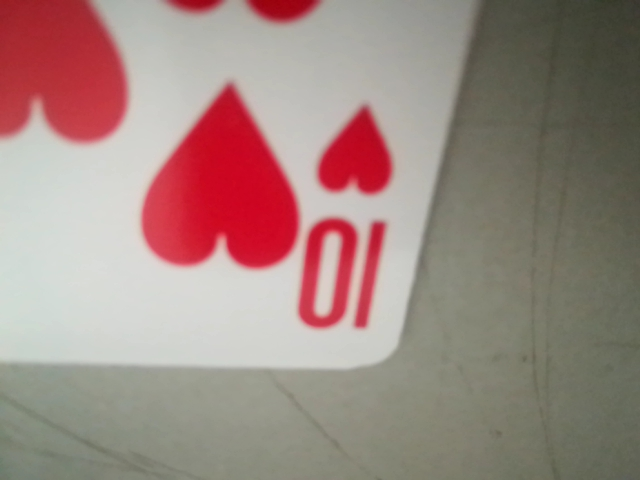hx 10: (284, 99, 395, 335)
